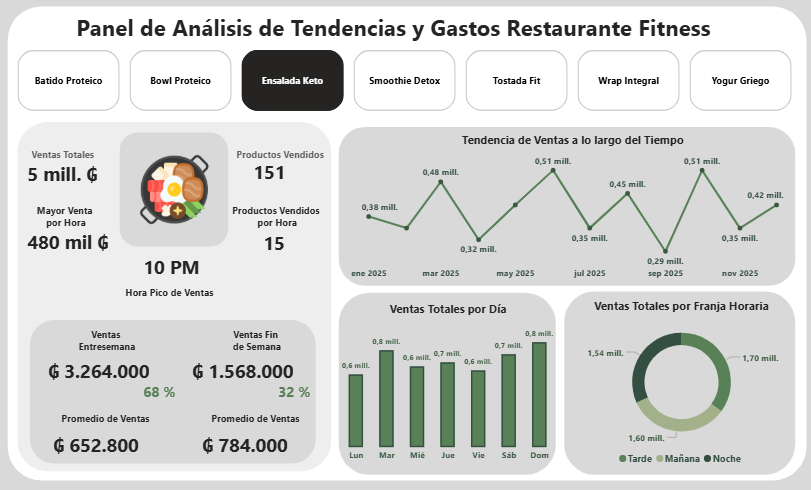

The dashboard page shown, as its layout file describes it:
{"tool":"powerbi","page":{"name":"Página 1","canvas":[1280,720],"ordinal":0},"visuals":[{"type":"textbox","box":[214.3,24.3,942.9,61.4],"z":0},{"type":"cardVisual","fields":{"Data":["Medidas_dax.Medida"]},"box":[120,225,188.6,67.1],"z":1000},{"type":"cardVisual","fields":{"Data":["Medidas_dax.Productos_Vendidos"]},"box":[442.9,225,121.4,62.9],"z":2000},{"type":"cardVisual","fields":{"Data":["Medidas_dax.Hora_Gasto_Maximo"]},"box":[120,325,178.8,65],"z":3000},{"type":"cardVisual","fields":{"Data":["Medidas_dax.Producto_mas_vendido"]},"box":[457.1,325,92.9,68.6],"z":4000},{"type":"cardVisual","fields":{"Data":["Medidas_dax.Hora_Pico_de_Ventas_formatoxhora"]},"box":[285,360,138.8,65],"z":5000},{"type":"cardVisual","fields":{"Data":["Medidas_dax.Gasto_Entresemana"]},"box":[150,505,235.7,70],"z":6000},{"type":"cardVisual","fields":{"Data":["Medidas_dax.Gasto_FindeSemana"]},"box":[355.7,505,235,70],"z":7000},{"type":"cardVisual","fields":{"Data":["Medidas_dax.% Gasto_Entresemana"]},"box":[285,540,105,60],"z":8000},{"type":"cardVisual","fields":{"Data":["Medidas_dax.% Gasto_FindeSemana"]},"box":[478.3,540,105,60],"z":9000},{"type":"cardVisual","fields":{"Data":["Medidas_dax.Gasto_Promedio_Entresemana"]},"box":[157.1,611.4,208.6,70],"z":10000},{"type":"cardVisual","fields":{"Data":["Medidas_dax.Gasto_Promedio_FindeSemana"]},"box":[370,611.4,215.7,70],"z":11000},{"type":"textbox","box":[150,220,108.6,28.6],"z":12000},{"type":"textbox","box":[442.9,220,152.9,28.6],"z":13000},{"type":"textbox","box":[157.1,300,94.3,44.3],"z":14000},{"type":"textbox","box":[432.9,300,142.9,47.1],"z":15000},{"type":"textbox","box":[283.8,417.5,145,28.8],"z":16000},{"type":"textbox","box":[214.3,477.1,97.1,50],"z":17000},{"type":"textbox","box":[428.6,477.1,97,50],"z":18000},{"type":"textbox","box":[190,597.1,141.4,28.6],"z":19000},{"type":"lineChart","title":"Tendencia de Ventas a lo largo del Tiempo","fields":{"Y":["Sum(dataset_restaurante_fitness_2025.ingreso)"],"Category":["dataset_restaurante_fitness_2025.fecha.Variación.Jerarquía de fechas.Año","dataset_restaurante_fitness_2025.fecha.Variación.Jerarquía de fechas.Trimestre","dataset_restaurante_fitness_2025.fecha.Variación.Jerarquía de fechas.Mes"]},"box":[605.7,201.4,645.7,220],"z":20000},{"type":"clusteredColumnChart","title":"Ventas Totales por Día","fields":{"Category":["dataset_restaurante_fitness_2025.dia_semana"],"Y":["Sum(dataset_restaurante_fitness_2025.ingreso)"]},"box":[585,442.5,328.8,238.8],"z":21000},{"type":"donutChart","title":"Ventas Totales por Franja Horaria","fields":{"Category":["dataset_restaurante_fitness_2025.franja_horaria"],"Y":["Sum(dataset_restaurante_fitness_2025.ingreso)"]},"box":[928.6,438.6,310,248.6],"z":22000},{"type":"advancedSlicerVisual","fields":{"Values":["dataset_restaurante_fitness_2025.producto"]},"box":[130,84.3,1121.4,92.9],"z":23000},{"type":"textbox","box":[403.8,597.5,141.2,28.8],"z":23000},{"type":"textbox","box":[36,205.9,46.1,28.8],"z":24001},{"type":"textbox","box":[23,302.4,70.6,44.6],"z":24002},{"type":"textbox","box":[21.6,383,83.5,36],"z":24003},{"type":"textbox","box":[25.9,473.8,64.8,28.8],"z":24004}]}

Visuals, with their boxes on the page's 1280x720 design canvas (x1, y1, x2, y2). These are canvas units, not pixel positions in the 811x490 screenshot, which may show the page scaled, cropped or inside an application window:
textbox: bbox(214, 24, 1157, 86)
cardVisual - Medidas_dax.Medida: bbox(120, 225, 309, 292)
cardVisual - Medidas_dax.Productos_Vendidos: bbox(443, 225, 564, 288)
cardVisual - Medidas_dax.Hora_Gasto_Maximo: bbox(120, 325, 299, 390)
cardVisual - Medidas_dax.Producto_mas_vendido: bbox(457, 325, 550, 394)
cardVisual - Medidas_dax.Hora_Pico_de_Ventas_formatoxhora: bbox(285, 360, 424, 425)
cardVisual - Medidas_dax.Gasto_Entresemana: bbox(150, 505, 386, 575)
cardVisual - Medidas_dax.Gasto_FindeSemana: bbox(356, 505, 591, 575)
cardVisual - Medidas_dax.% Gasto_Entresemana: bbox(285, 540, 390, 600)
cardVisual - Medidas_dax.% Gasto_FindeSemana: bbox(478, 540, 583, 600)
cardVisual - Medidas_dax.Gasto_Promedio_Entresemana: bbox(157, 611, 366, 681)
cardVisual - Medidas_dax.Gasto_Promedio_FindeSemana: bbox(370, 611, 586, 681)
textbox: bbox(150, 220, 259, 249)
textbox: bbox(443, 220, 596, 249)
textbox: bbox(157, 300, 251, 344)
textbox: bbox(433, 300, 576, 347)
textbox: bbox(284, 418, 429, 446)
textbox: bbox(214, 477, 311, 527)
textbox: bbox(429, 477, 526, 527)
textbox: bbox(190, 597, 331, 626)
"Tendencia de Ventas a lo largo del Tiempo" lineChart: bbox(606, 201, 1251, 421)
"Ventas Totales por Día" clusteredColumnChart: bbox(585, 442, 914, 681)
"Ventas Totales por Franja Horaria" donutChart: bbox(929, 439, 1239, 687)
advancedSlicerVisual - dataset_restaurante_fitness_2025.producto: bbox(130, 84, 1251, 177)
textbox: bbox(404, 598, 545, 626)
textbox: bbox(36, 206, 82, 235)
textbox: bbox(23, 302, 94, 347)
textbox: bbox(22, 383, 105, 419)
textbox: bbox(26, 474, 91, 503)
